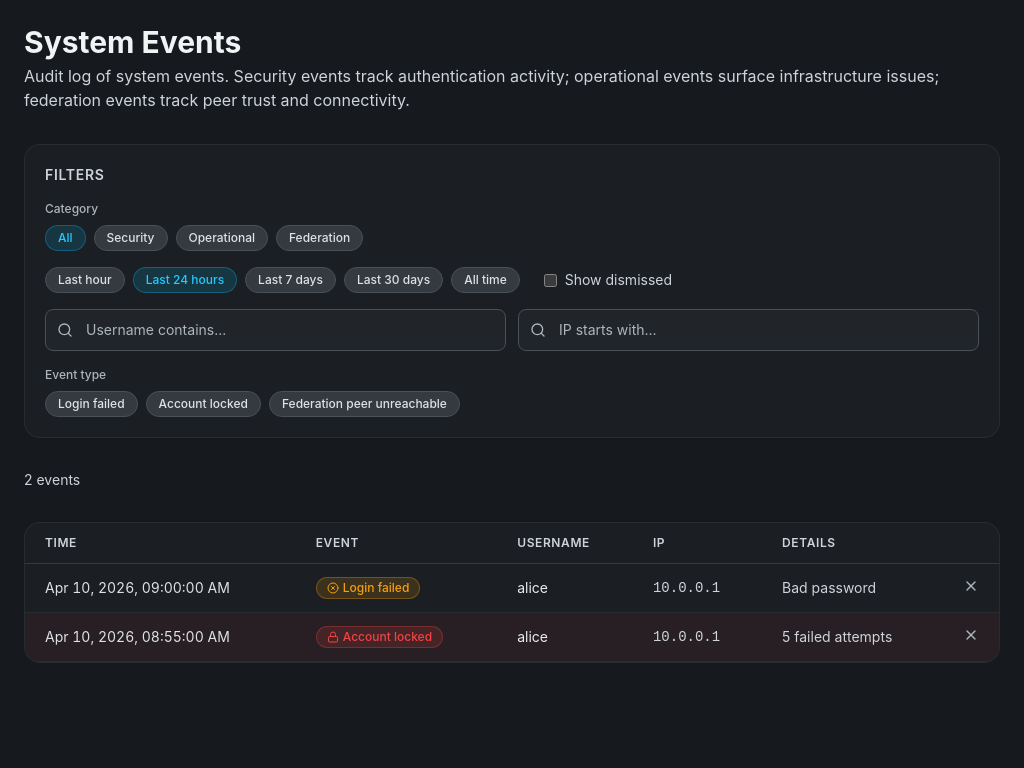
Test: AdminSystemEventsPage › opens detail modal when clicking a row
Click the row that starts with "Apr 10, 2026, 09:00:00 AM" at (512, 588), box [25,564,999,612]
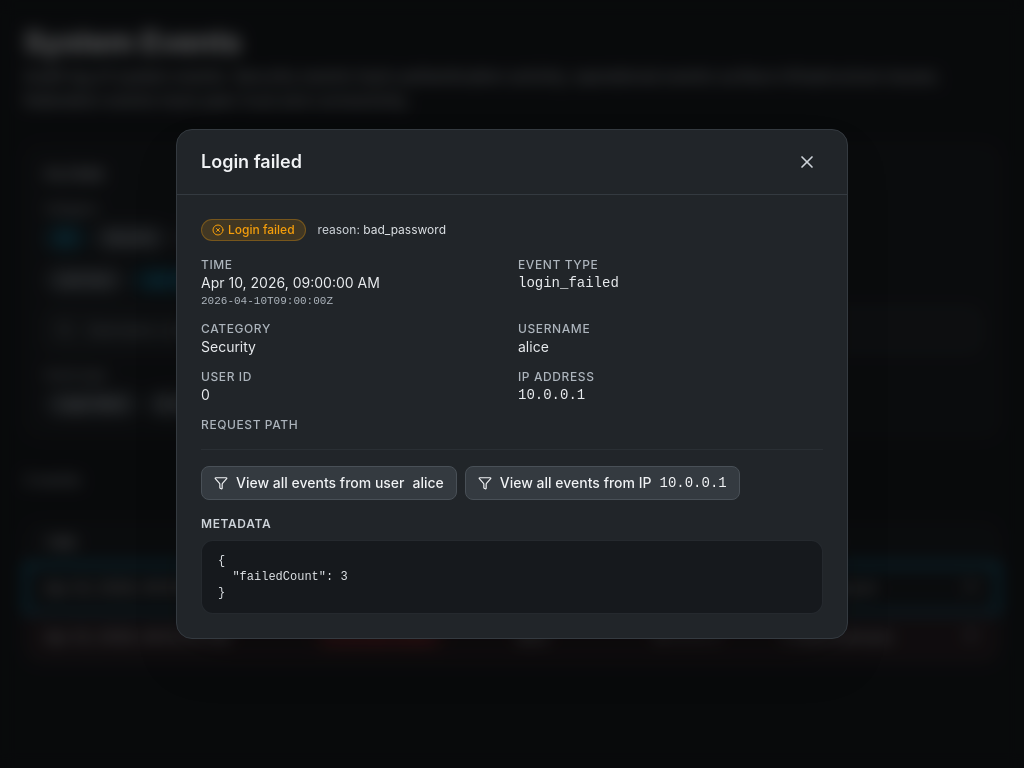
Result: the dialog is shown at [176,129,848,639]
Result: the text "Metadata" is shown at [201,516,271,531]
